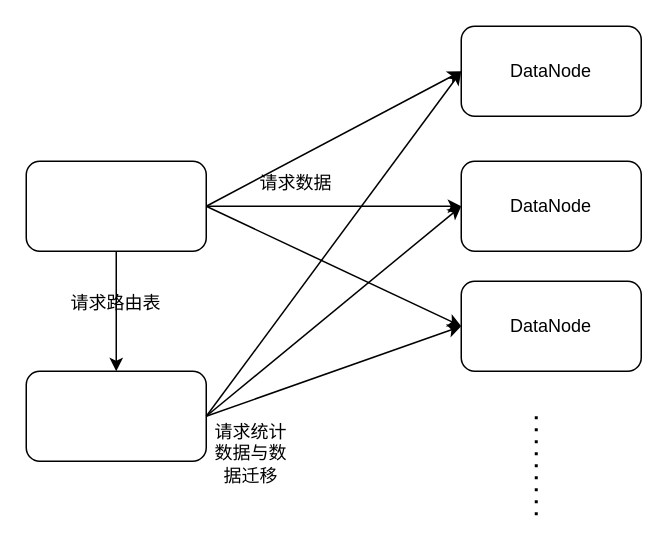
Image size: 668x551. Some labels were removed from this diagram. The centre of each missing label's shape, as x and y in pixels:
Proxy: point (115, 415)
客户端: point (115, 205)
